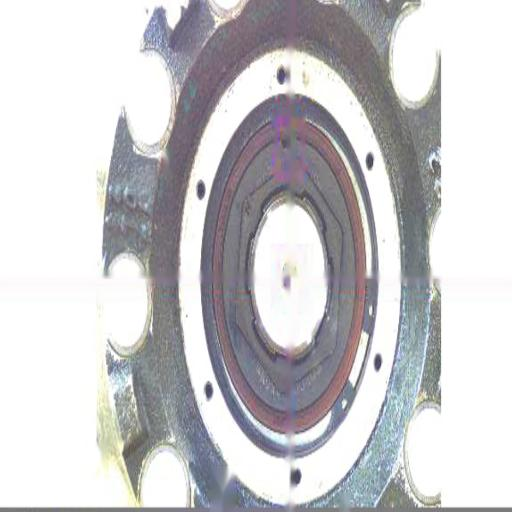center: (282, 275, 291, 294)
notch: (279, 130, 292, 158)
